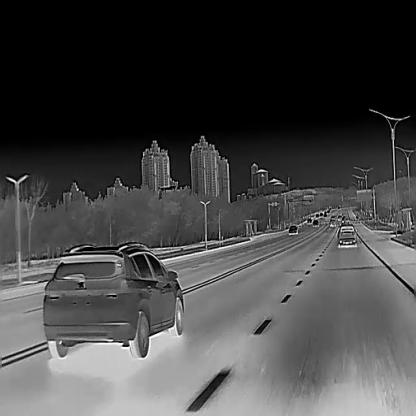car: (42, 239, 184, 358), (337, 223, 357, 247), (288, 224, 297, 235), (312, 218, 318, 226), (329, 219, 335, 226)
